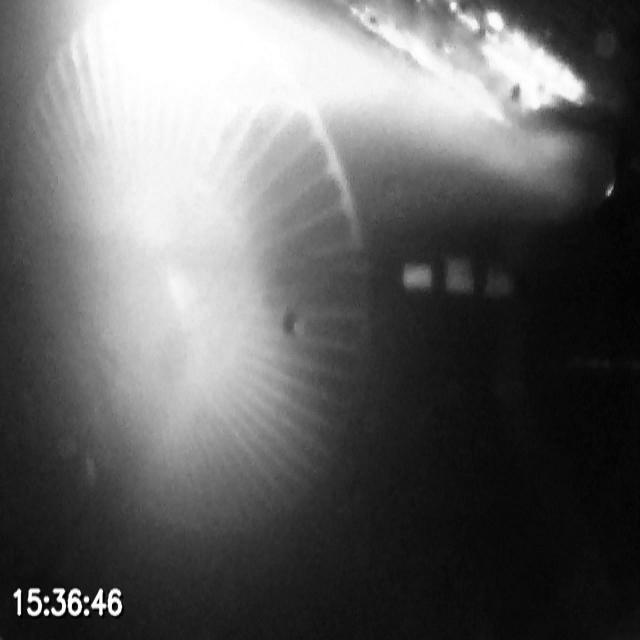white-dots: (400, 260, 522, 303)
